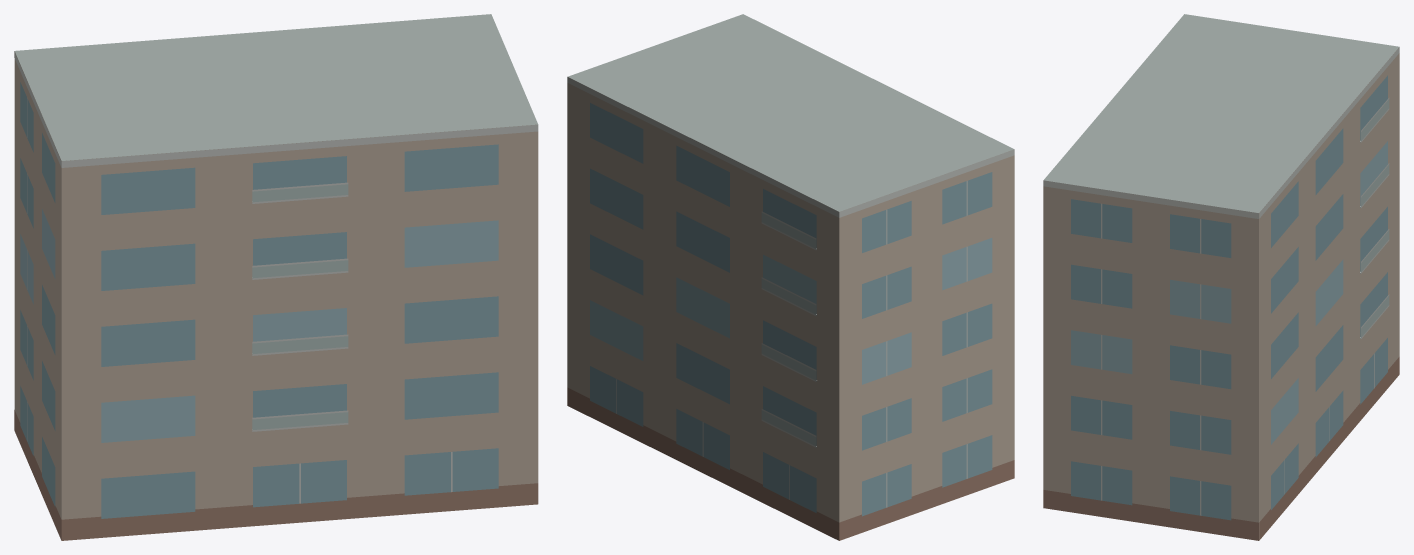
Rendered from survey-upis-32889801.glb.
The picture shows the model from 3 angles, left to right: view 1: azimuth 30°, elevation 25°; view 2: azimuth 150°, elevation 25°; view 3: azimuth 270°, elevation 25°; orthographic projection. The views are drawn at different scales.
Visible parts, largest first — view 1: survey-upis-32889801.tmp; view 2: survey-upis-32889801.tmp; view 3: survey-upis-32889801.tmp.
Part boxes in pixels (bbox=[...]): survey-upis-32889801.tmp: bbox=[14, 14, 538, 540]; survey-upis-32889801.tmp: bbox=[567, 14, 1014, 540]; survey-upis-32889801.tmp: bbox=[1043, 14, 1399, 540].
Bounding box in the file's own units: 17.47 × 13.4 × 13.21.
